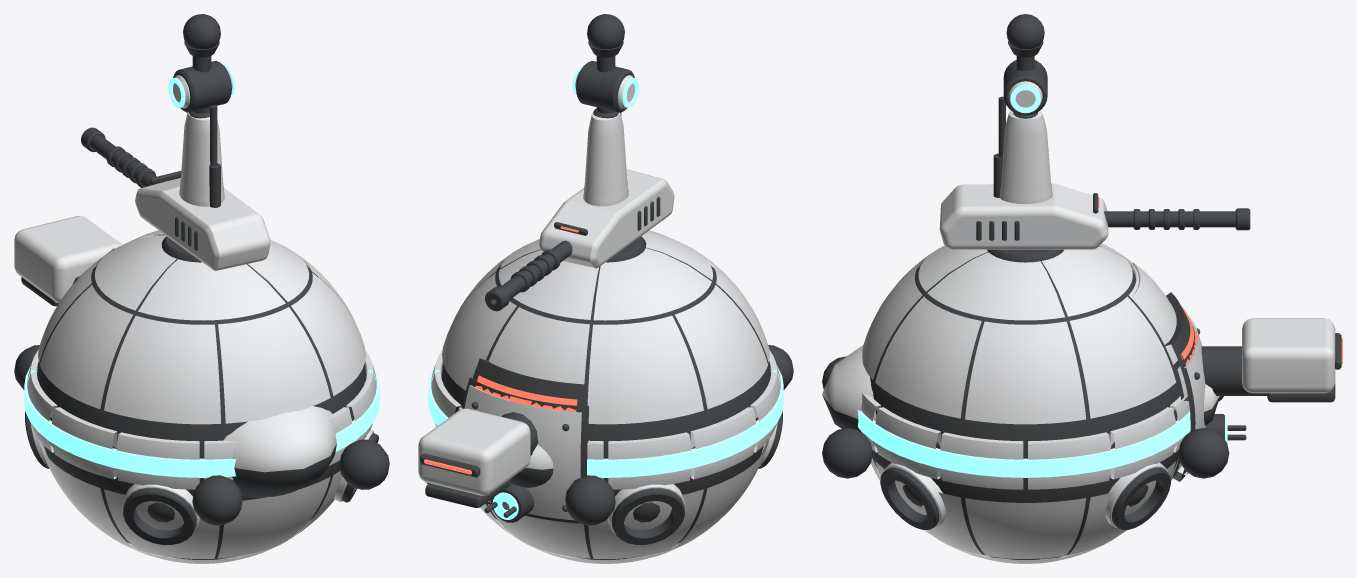
The model's file is walker.glb.
3 views of the same model, side by side, from view 1: azimuth 30°, elevation 25°; view 2: azimuth 150°, elevation 25°; view 3: azimuth 270°, elevation 25° (orthographic).
Visible parts, largest first — view 1: core, hound_body, turret, leg_upper, hound_head, leg_lower; view 2: core, turret, hound_head, plate, leg_upper, panel, hound_body, sensor, leg_lower, emitter; view 3: core, turret, hound_body, hound_head, leg_upper, plate, leg_lower, panel, sensor.
Part boxes in pixels (x1,y1,x2,y2): core: (24,230,379,563); hound_body: (14,345,389,525); turret: (81,127,270,270); leg_upper: (168,61,235,207); hound_head: (14,216,121,306); leg_lower: (183,14,220,118); core: (428,230,783,563); turret: (485,169,674,311); hound_head: (418,408,530,507); plate: (462,377,589,523); leg_upper: (572,61,639,206); panel: (490,310,585,383); hound_body: (426,345,793,525); sensor: (472,358,587,411); leg_lower: (587,14,624,118); emitter: (484,483,533,522); core: (857,243,1190,563); turret: (939,183,1250,249); hound_body: (822,345,1267,478); hound_head: (1242,318,1342,402); leg_upper: (993,60,1052,203); plate: (1172,315,1205,481); leg_lower: (1006,14,1044,118); panel: (1130,262,1177,361); sensor: (1163,292,1198,400).
Bounding box in the file's own units: 0.838 × 1.38 × 1.23.
